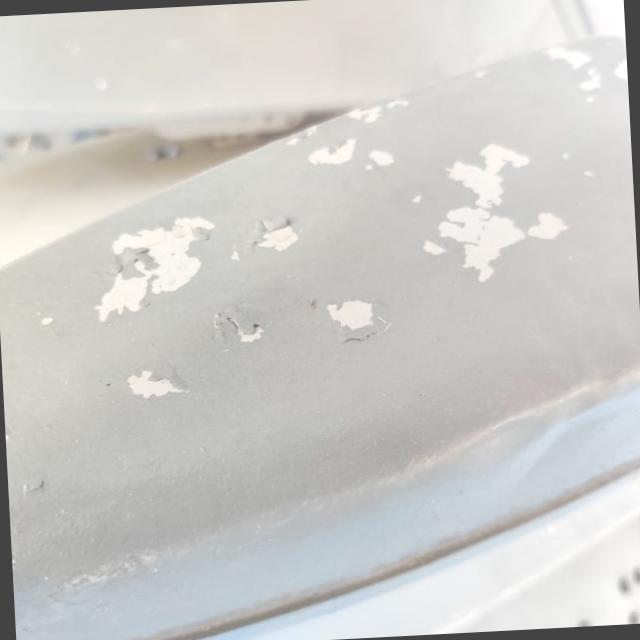paint-off: (402, 129, 588, 299), (84, 206, 226, 336), (538, 33, 630, 109), (310, 284, 398, 354), (116, 356, 200, 414), (206, 300, 274, 354), (342, 90, 416, 131), (246, 208, 306, 258), (302, 130, 364, 176), (356, 142, 401, 176)
